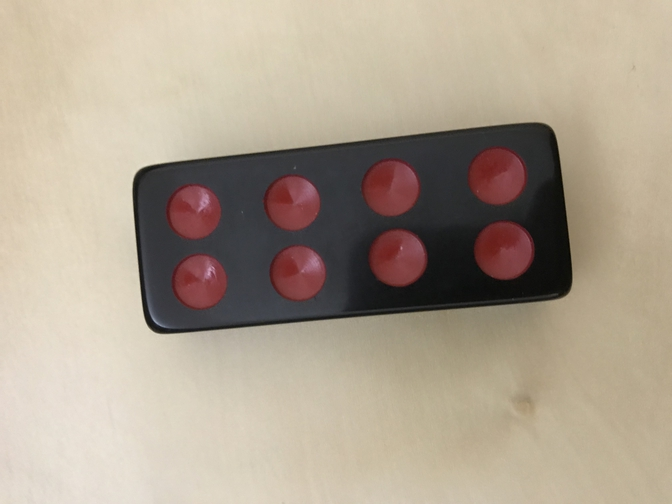man: (131, 122, 575, 335)
